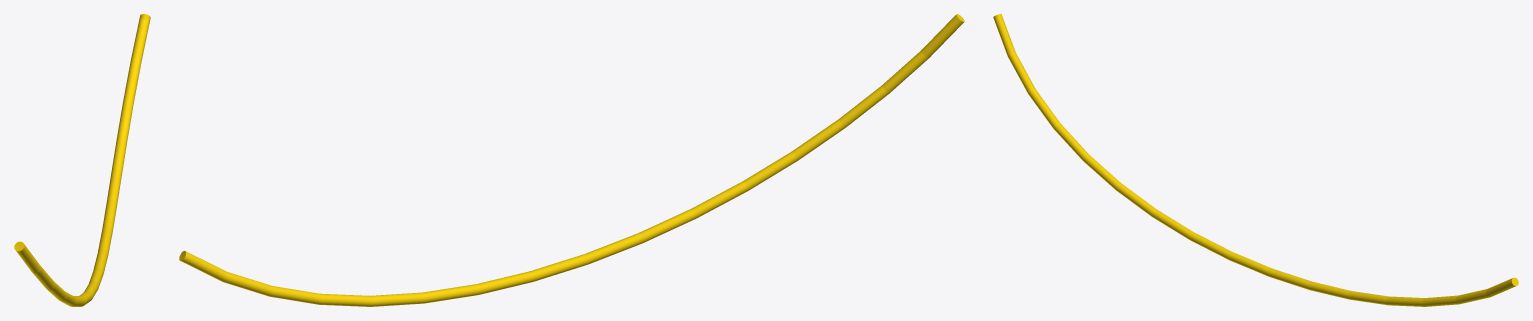
Rendered from Event_421127236_track_4.fbx.
The picture shows the model from 3 angles, left to right: view 1: azimuth 30°, elevation 25°; view 2: azimuth 150°, elevation 25°; view 3: azimuth 270°, elevation 25°; orthographic projection. The views are drawn at different scales.
Parts seen in each view (by area): view 1: Model; view 2: Model; view 3: Model.
Part boxes in pixels (x1,y1,x2,y2): Model: (14, 14, 150, 306); Model: (179, 14, 964, 306); Model: (993, 14, 1518, 306).
Bounding box in the file's own units: 1.91 × 0.8157 × 2.36.
